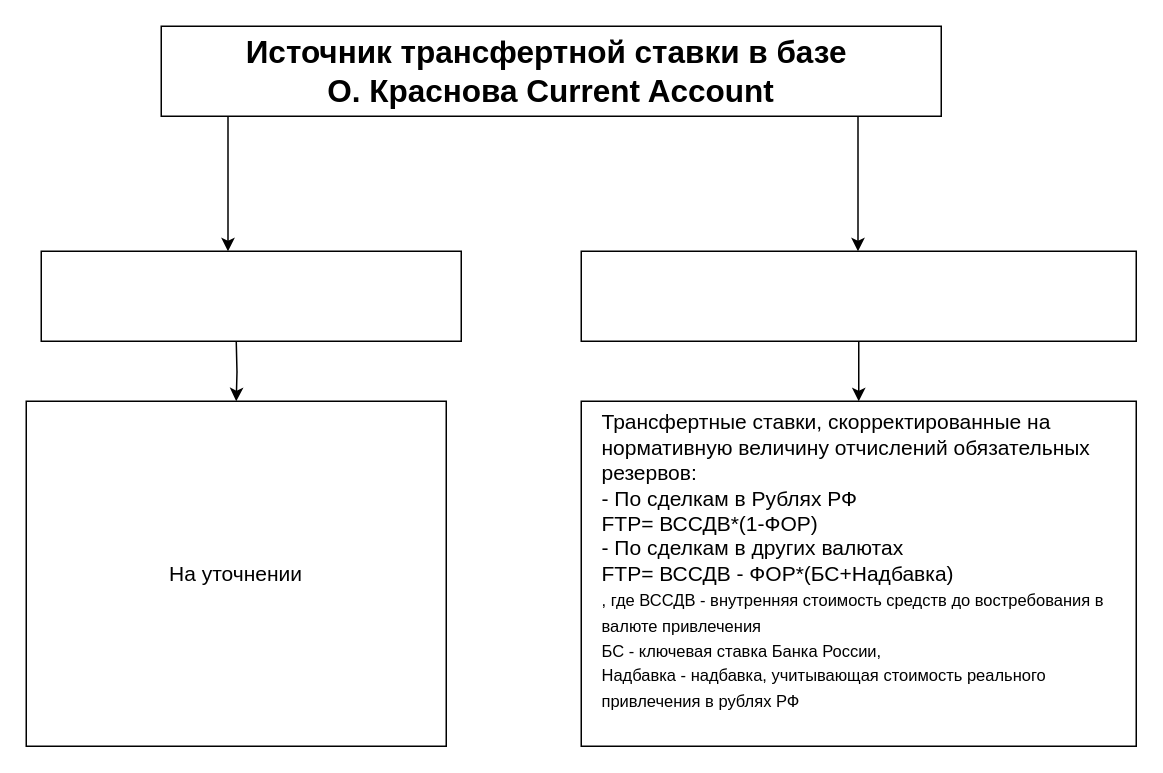
This 1163x773 diagram has some shape labels left out. The centre of each missing label's shape, as x and y in pixels:
CurrentAccouns_SpecialAccounts: the point at 250,295
Казначейство: the point at 858,295
